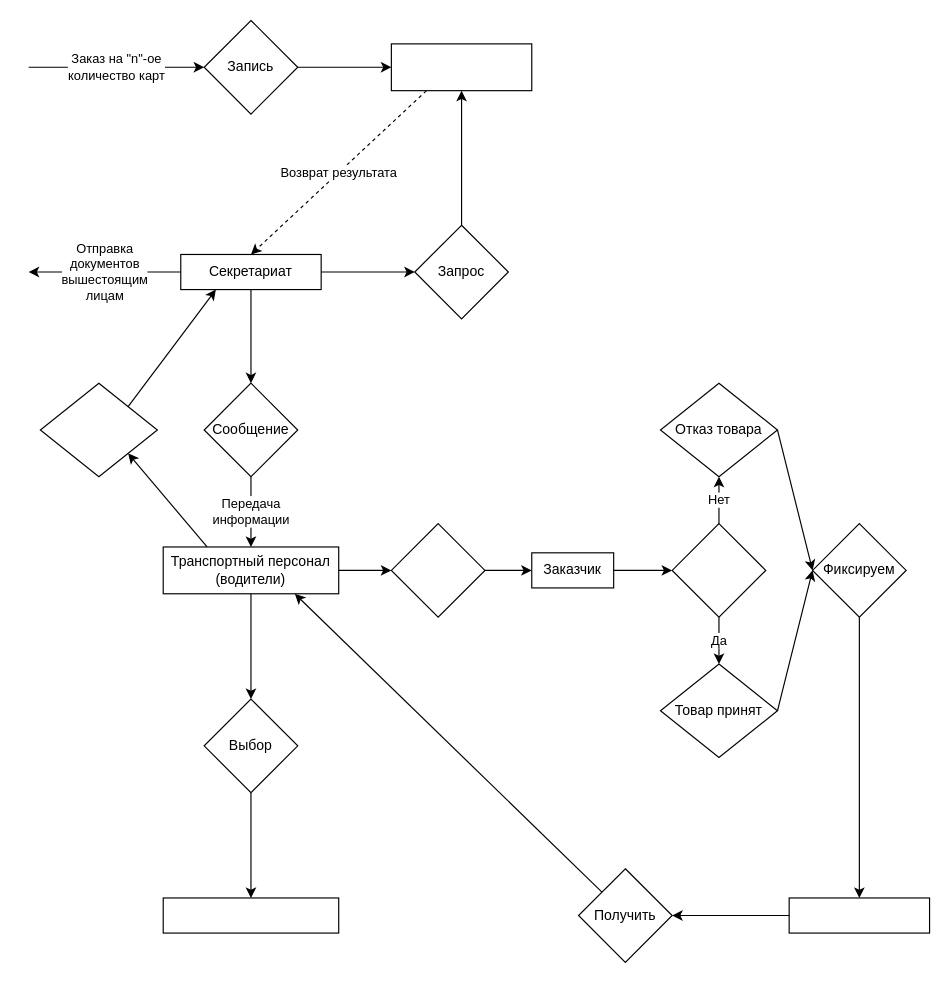
The diagram is 950 pixels wide and 983 high, and some of its shapes have lost their labels. The shapes that lost their labels are listed below. From the top down, each one's centre as x and y in pixels, then its label:
At point (461, 67): "База данных (таблица: заказы)".
At point (98, 429): "Отчетность".
At point (437, 569): "Движение".
At point (718, 569): "Доставка успешна?".
At point (250, 915): "Транспортное средство".
At point (859, 915): "Документация".
